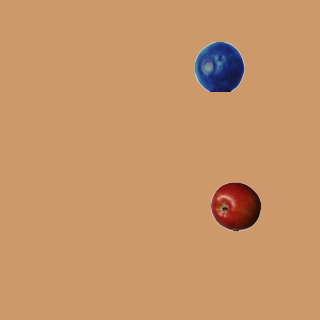Apple Braeburn: (210, 181, 260, 231)
Huckleberry: (194, 41, 244, 91)
